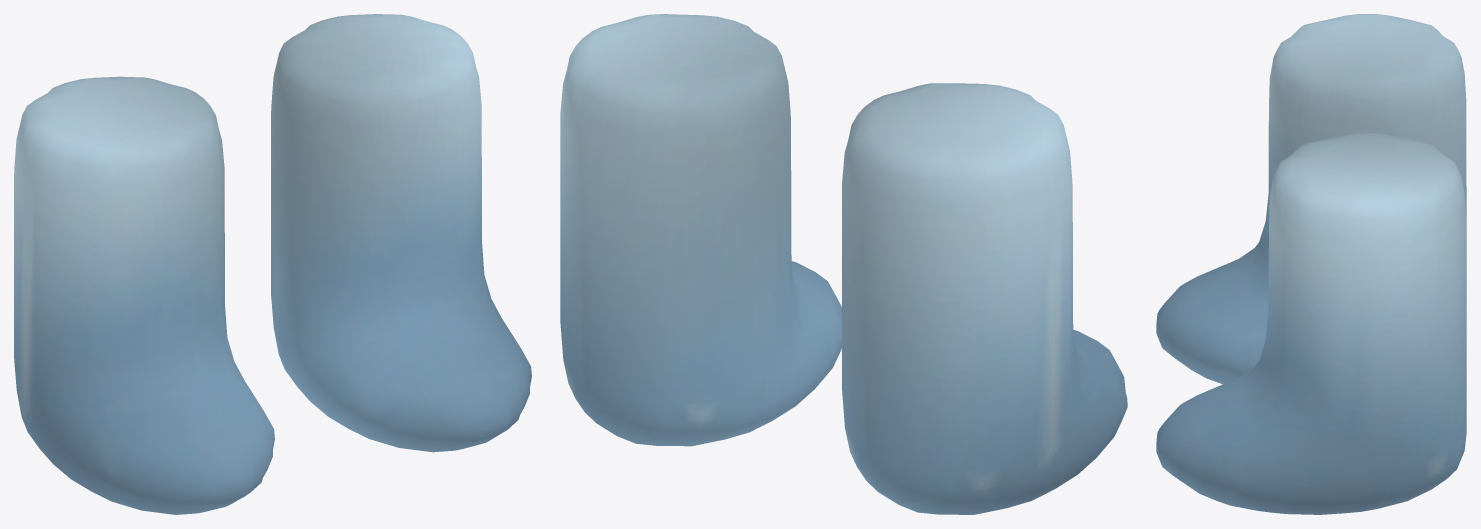
Rendered from item_boots.glb.
The picture shows the model from 3 angles, left to right: view 1: azimuth 30°, elevation 25°; view 2: azimuth 150°, elevation 25°; view 3: azimuth 270°, elevation 25°; orthographic projection. The views are drawn at different scales.
Visible parts, largest first — view 1: boots; view 2: boots; view 3: boots.
Part boxes in pixels (x1,y1,x2,y2): boots: (14,14,531,514); boots: (560,14,1127,514); boots: (1156,14,1466,514).
Bounding box in the file's own units: 0.5168 × 0.3953 × 0.3316.
Materials: 1 (1 with a texture image).
